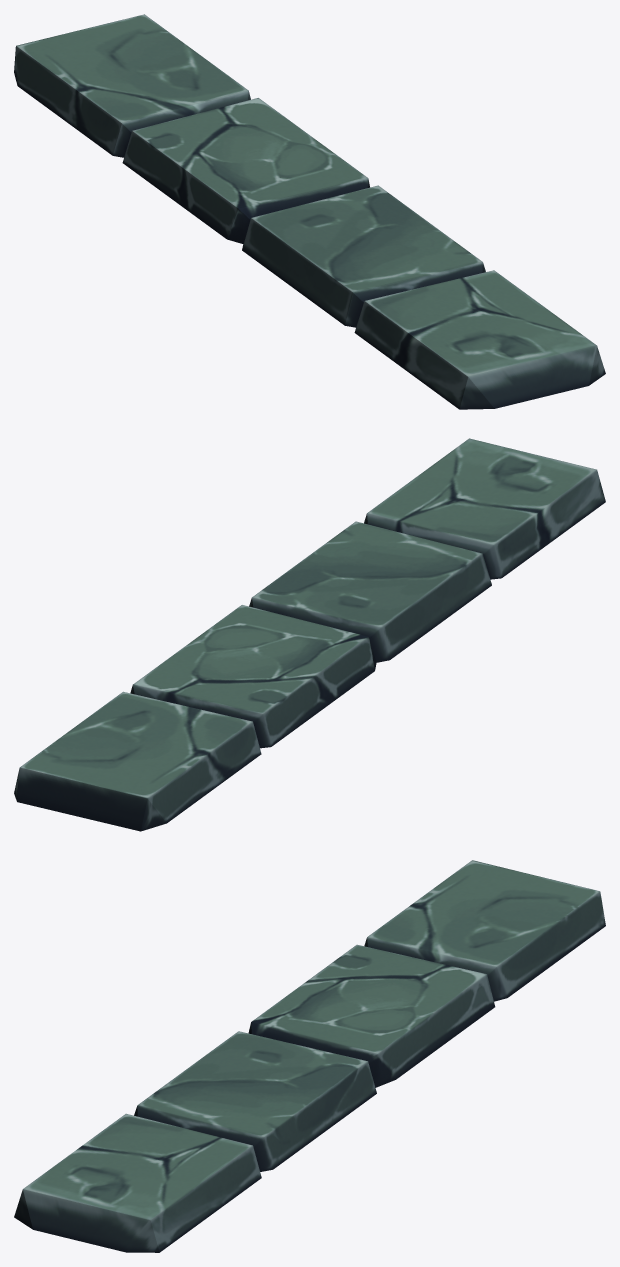
File: edge.fbx
The picture shows the model from 3 angles, top to bottom: view 1: azimuth 30°, elevation 25°; view 2: azimuth 150°, elevation 25°; view 3: azimuth 330°, elevation 25°; orthographic projection.
Parts seen in each view (by area): view 1: edge; view 2: edge; view 3: edge.
Part boxes in pixels (left/top/right/bottom): edge: left=14, top=14, right=605, bottom=409; edge: left=14, top=438, right=605, bottom=831; edge: left=14, top=860, right=605, bottom=1252.
Bounding box in the file's own units: 7.2 × 1.43 × 39.61.
